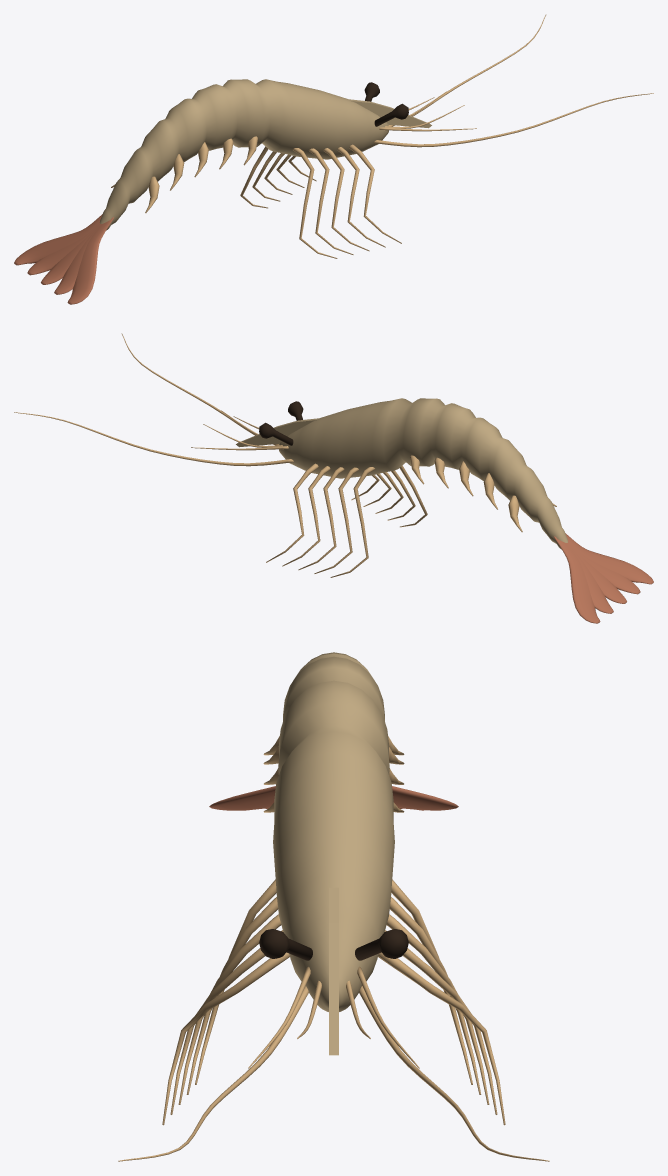
3 renders of one model, top to bottom at view 1: azimuth 30°, elevation 25°; view 2: azimuth 150°, elevation 25°; view 3: azimuth 270°, elevation 25°, orthographic. The views are drawn at different scales.
Visible parts, largest first — view 1: Body_continuous_segmented_shell, Tail_fan_blade_0, Tail_fan_blade_4, Antenna_long_L, Rostrum_dorsal_blade, Tail_fan_blade_3, Tail_fan_blade_1, Tail_fan_blade_2, Walking_leg_L1, Walking_leg_L2, Walking_leg_L3, Walking_leg_L4 (+1 smaller); view 2: Body_continuous_segmented_shell, Tail_fan_blade_4, Tail_fan_blade_0, Antenna_long_R, Rostrum_dorsal_blade, Tail_fan_blade_1, Tail_fan_blade_3, Tail_fan_blade_2, Walking_leg_R1, Walking_leg_R2, Walking_leg_R3, Walking_leg_R4 (+1 smaller); view 3: Body_continuous_segmented_shell, Rostrum_dorsal_blade, Walking_leg_L5, Walking_leg_R5, Antenna_long_L, Antenna_long_R, Walking_leg_L3, Walking_leg_R3, Eye_stalk_L, Eye_stalk_R, Walking_leg_L2, Walking_leg_R2 (+6 smaller).
Boxes of the visible parts, x1,y1,x2,y2 form: Body_continuous_segmented_shell: (100, 79, 388, 230); Tail_fan_blade_0: (67, 217, 113, 304); Tail_fan_blade_4: (14, 214, 102, 265); Antenna_long_L: (374, 93, 653, 147); Rostrum_dorsal_blade: (349, 99, 431, 128); Tail_fan_blade_3: (27, 222, 99, 275); Tail_fan_blade_1: (54, 224, 101, 294); Tail_fan_blade_2: (41, 224, 100, 284); Walking_leg_L1: (292, 148, 337, 258); Walking_leg_L2: (309, 148, 353, 254); Walking_leg_L3: (323, 148, 369, 251); Walking_leg_L4: (337, 147, 385, 247); Body_continuous_segmented_shell: (279, 398, 567, 549); Tail_fan_blade_4: (554, 536, 600, 623); Tail_fan_blade_0: (565, 533, 653, 584); Antenna_long_R: (14, 412, 293, 466); Rostrum_dorsal_blade: (236, 418, 318, 447); Tail_fan_blade_1: (568, 541, 640, 594); Tail_fan_blade_3: (566, 543, 613, 613); Tail_fan_blade_2: (567, 543, 626, 603); Walking_leg_R1: (330, 467, 374, 577); Walking_leg_R2: (314, 467, 358, 573); Walking_leg_R3: (298, 467, 344, 570); Walking_leg_R4: (282, 466, 330, 566); Body_continuous_segmented_shell: (273, 652, 394, 1011); Rostrum_dorsal_blade: (329, 887, 338, 1055); Walking_leg_L5: (162, 952, 289, 1125); Walking_leg_R5: (378, 952, 505, 1125); Antenna_long_L: (118, 986, 308, 1161); Antenna_long_R: (359, 986, 549, 1161); Walking_leg_L3: (178, 914, 281, 1104); Walking_leg_R3: (386, 914, 489, 1104); Eye_stalk_L: (259, 929, 312, 960); Eye_stalk_R: (355, 929, 408, 960); Walking_leg_L2: (186, 897, 278, 1094); Walking_leg_R2: (389, 897, 481, 1094).
Bounding box in the file's own units: 0.3172 × 0.0919 × 0.1062.
